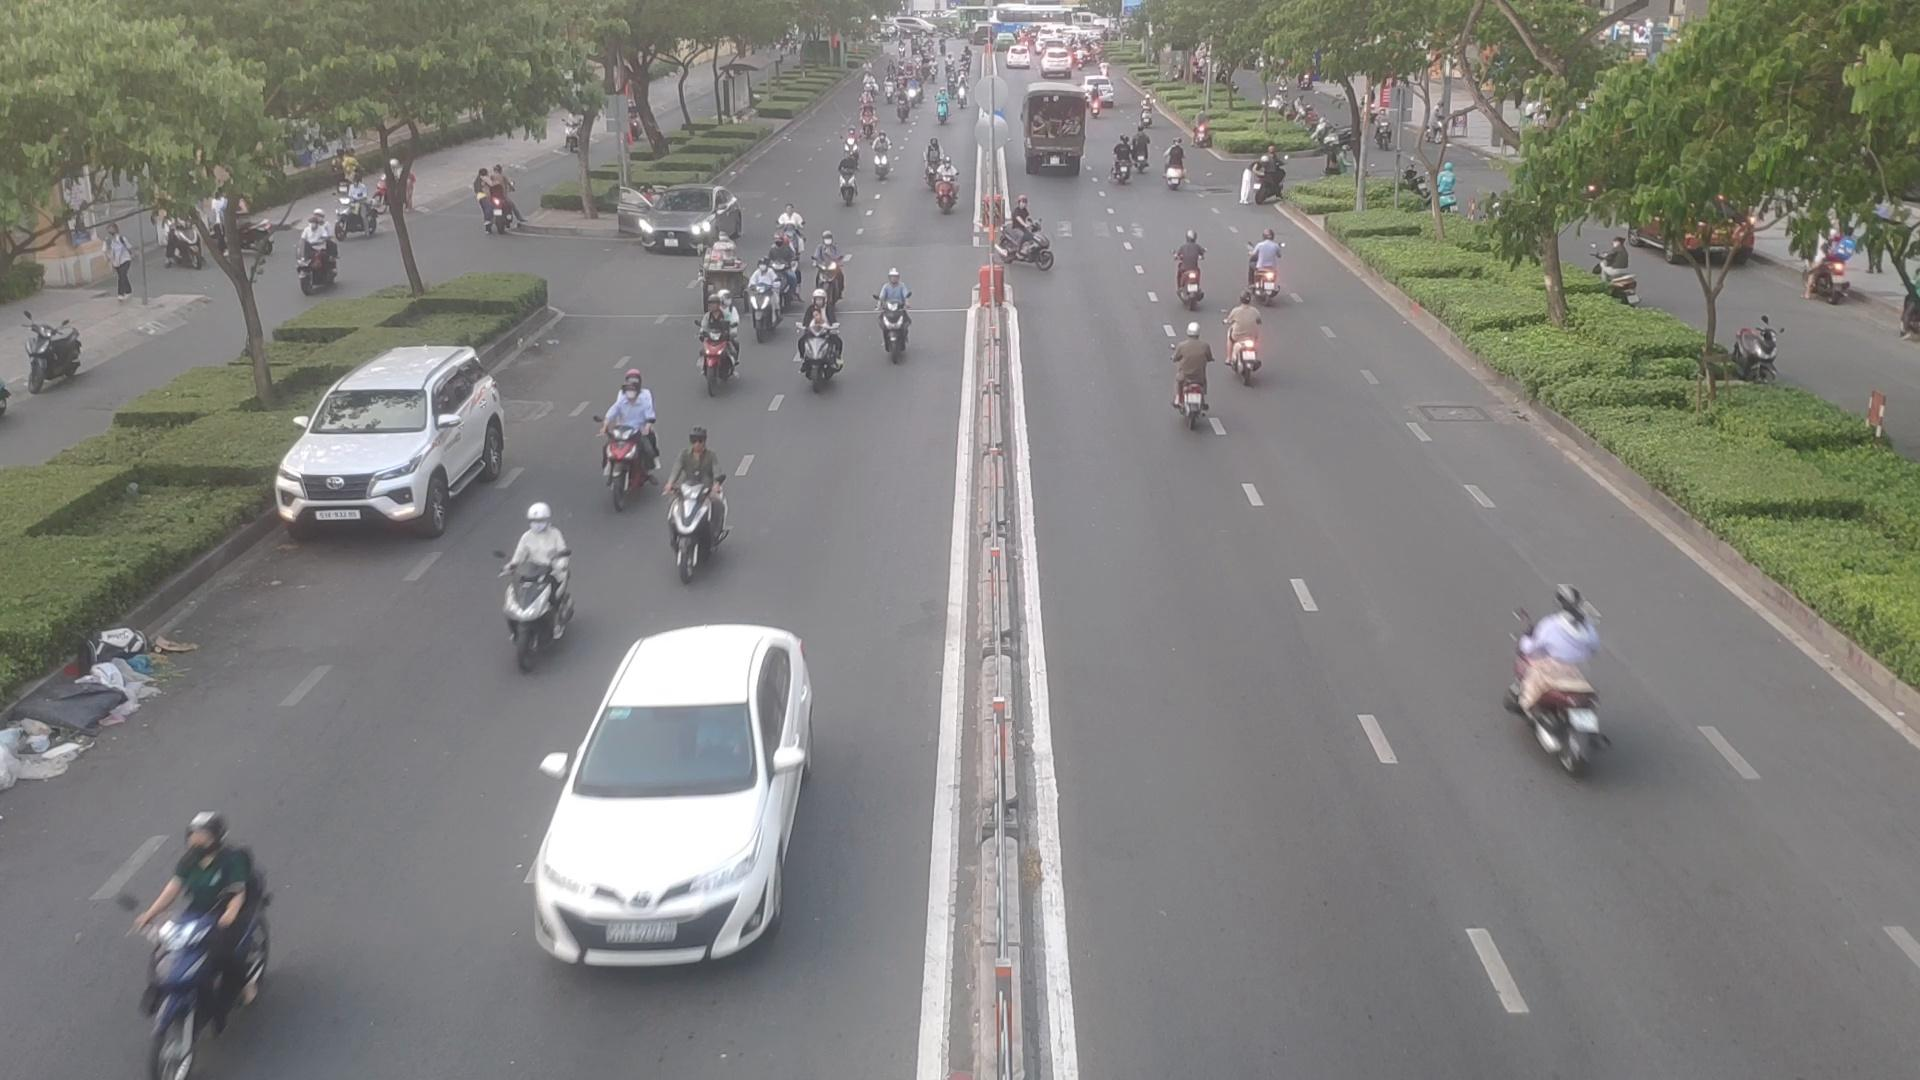car: (520, 626, 814, 967), (273, 345, 512, 535), (618, 187, 735, 255)
motorbike: (141, 808, 277, 1065), (1511, 576, 1601, 789), (498, 498, 571, 653), (671, 421, 733, 574), (599, 373, 657, 501), (870, 264, 919, 375), (1170, 320, 1220, 425), (1217, 290, 1269, 386), (1000, 191, 1058, 272), (746, 255, 783, 344), (1247, 224, 1286, 309), (829, 140, 869, 220), (702, 327, 746, 393), (1170, 223, 1203, 311), (808, 224, 844, 306), (796, 324, 843, 386), (934, 157, 959, 219), (1163, 142, 1193, 190), (1112, 136, 1139, 186), (873, 131, 894, 175)
